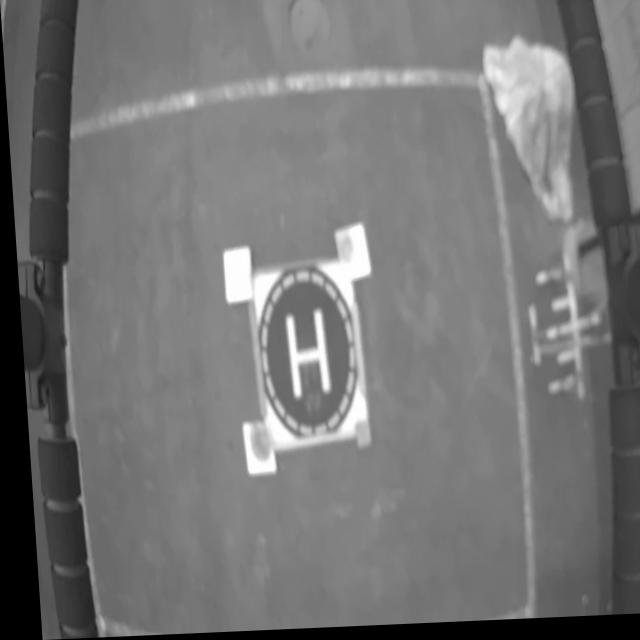Helipad: (281, 313, 326, 400)
